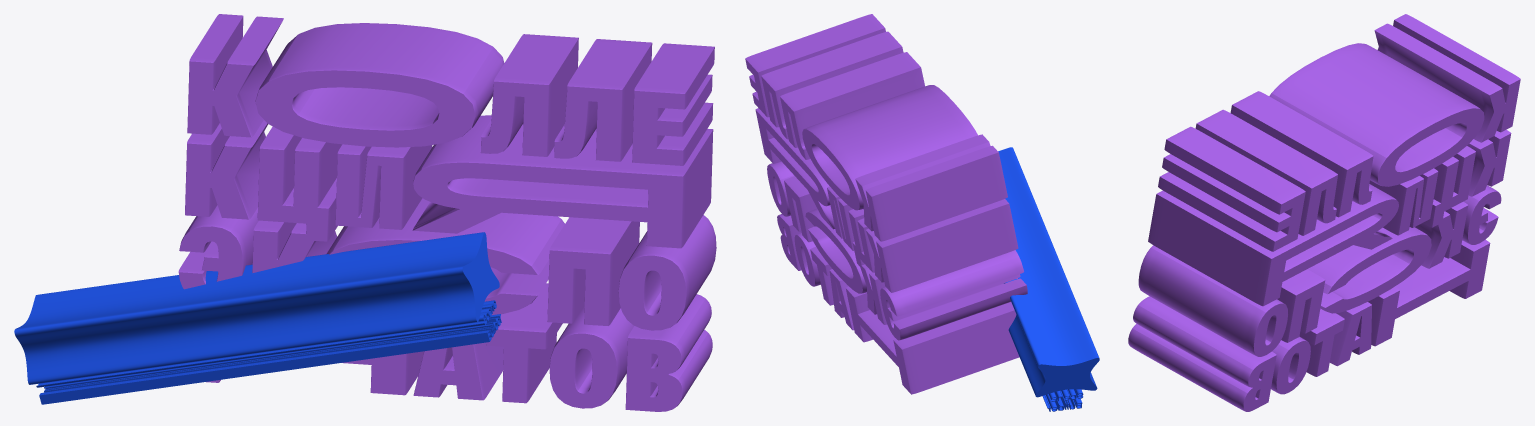
The picture shows the model from 3 angles, left to right: view 1: azimuth 30°, elevation 25°; view 2: azimuth 150°, elevation 25°; view 3: azimuth 270°, elevation 25°; orthographic projection. The views are drawn at different scales.
Parts seen in each view (by area): view 1: кОллеКциЯэкСпоНатов1611.svg, Logo.svg; view 2: кОллеКциЯэкСпоНатов1611.svg, Logo.svg; view 3: кОллеКциЯэкСпоНатов1611.svg.
Part boxes in pixels (x1=…): кОллеКциЯэкСпоНатов1611.svg: x1=178, y1=14, x2=716, y2=411; Logo.svg: x1=14, y1=232, x2=501, y2=404; кОллеКциЯэкСпоНатов1611.svg: x1=745, y1=14, x2=1027, y2=394; Logo.svg: x1=998, y1=147, x2=1099, y2=411; кОллеКциЯэкСпоНатов1611.svg: x1=1128, y1=14, x2=1520, y2=411.
Bounding box in the file's own units: 9.85 × 5.15 × 7.3.
